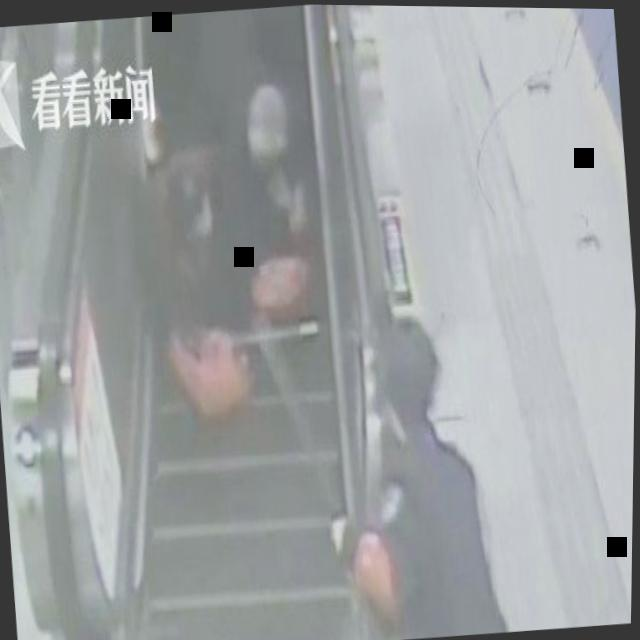Fall-Detected: (110, 77, 335, 432)
